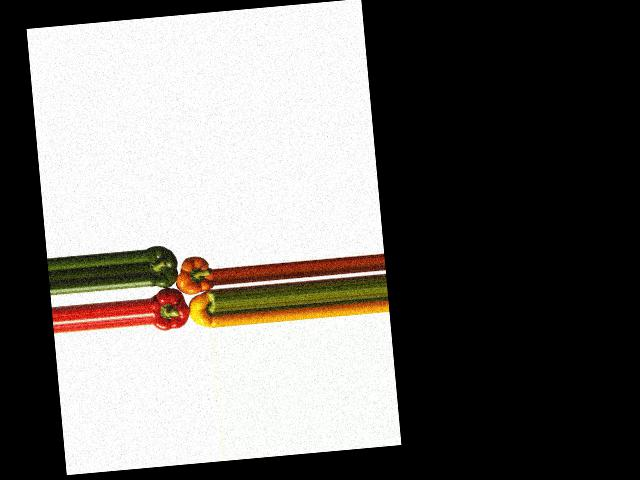bell_pepper: (185, 287, 218, 330)
